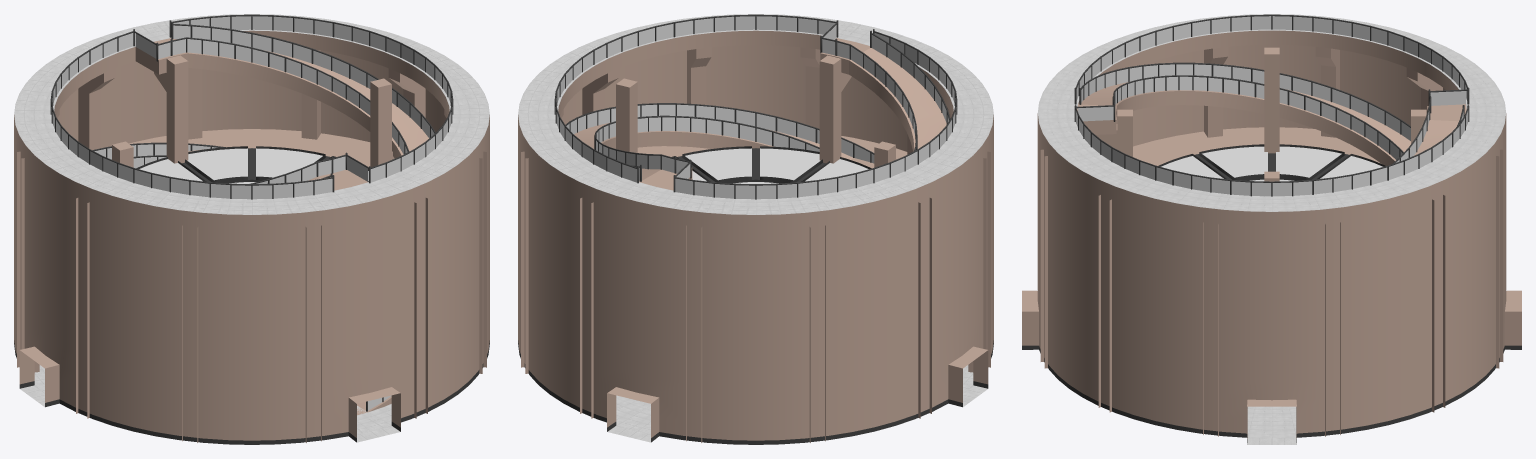
Rendered from labblock_dome.dae.
3 renders of one model, left to right at view 1: azimuth 30°, elevation 25°; view 2: azimuth 150°, elevation 25°; view 3: azimuth 270°, elevation 25°, orthographic.
Visible parts, largest first — view 1: laboratory_domebase_wall, laboratory_domebase_wall_h, laboratory_domebase_mid, laboratory_domebase_stairs, laboratory_domebase_roof, laboratory_domebase_mid_rail, laboratory_domebase_stairs_rail, laboratory_domebase_stairs_end, laboratory_domebase_base; view 2: laboratory_domebase_wall, laboratory_domebase_wall_h, laboratory_domebase_mid, laboratory_domebase_stairs, laboratory_domebase_roof, laboratory_domebase_stairs_rail, laboratory_domebase_mid_rail, laboratory_domebase_base, laboratory_domebase_stairs_end; view 3: laboratory_domebase_wall, laboratory_domebase_wall_h, laboratory_domebase_mid, laboratory_domebase_stairs, laboratory_domebase_roof, laboratory_domebase_mid_rail, laboratory_domebase_stairs_rail, laboratory_domebase_stairs_end, laboratory_domebase_base.
Part boxes in pixels (box(x1,y1,x2,y2)): laboratory_domebase_wall: box(14, 50, 489, 387); laboratory_domebase_wall_h: box(14, 232, 489, 444); laboratory_domebase_mid: box(14, 14, 489, 442); laboratory_domebase_stairs: box(94, 25, 434, 415); laboratory_domebase_roof: box(129, 129, 370, 183); laboratory_domebase_mid_rail: box(50, 14, 453, 199); laboratory_domebase_stairs_rail: box(92, 22, 435, 411); laboratory_domebase_stairs_end: box(135, 33, 368, 186); laboratory_domebase_base: box(34, 365, 391, 434); laboratory_domebase_wall: box(518, 45, 993, 387); laboratory_domebase_wall_h: box(518, 230, 993, 444); laboratory_domebase_mid: box(518, 14, 993, 442); laboratory_domebase_stairs: box(566, 35, 949, 186); laboratory_domebase_roof: box(637, 136, 907, 183); laboratory_domebase_stairs_rail: box(565, 30, 950, 181); laboratory_domebase_mid_rail: box(554, 14, 957, 199); laboratory_domebase_base: box(616, 365, 973, 434); laboratory_domebase_stairs_end: box(657, 25, 854, 190); laboratory_domebase_wall: box(1037, 44, 1506, 381); laboratory_domebase_wall_h: box(1022, 229, 1521, 444); laboratory_domebase_mid: box(1038, 14, 1505, 436); laboratory_domebase_stairs: box(1077, 47, 1465, 181); laboratory_domebase_roof: box(1133, 127, 1385, 181); laboratory_domebase_mid_rail: box(1074, 14, 1469, 196); laboratory_domebase_stairs_rail: box(1079, 62, 1464, 163); laboratory_domebase_stairs_end: box(1078, 91, 1466, 134); laboratory_domebase_base: box(1247, 406, 1296, 438).
Bounding box in the file's own units: 32 × 32 × 18.17.
Materials: 6 (1 with a texture image).
